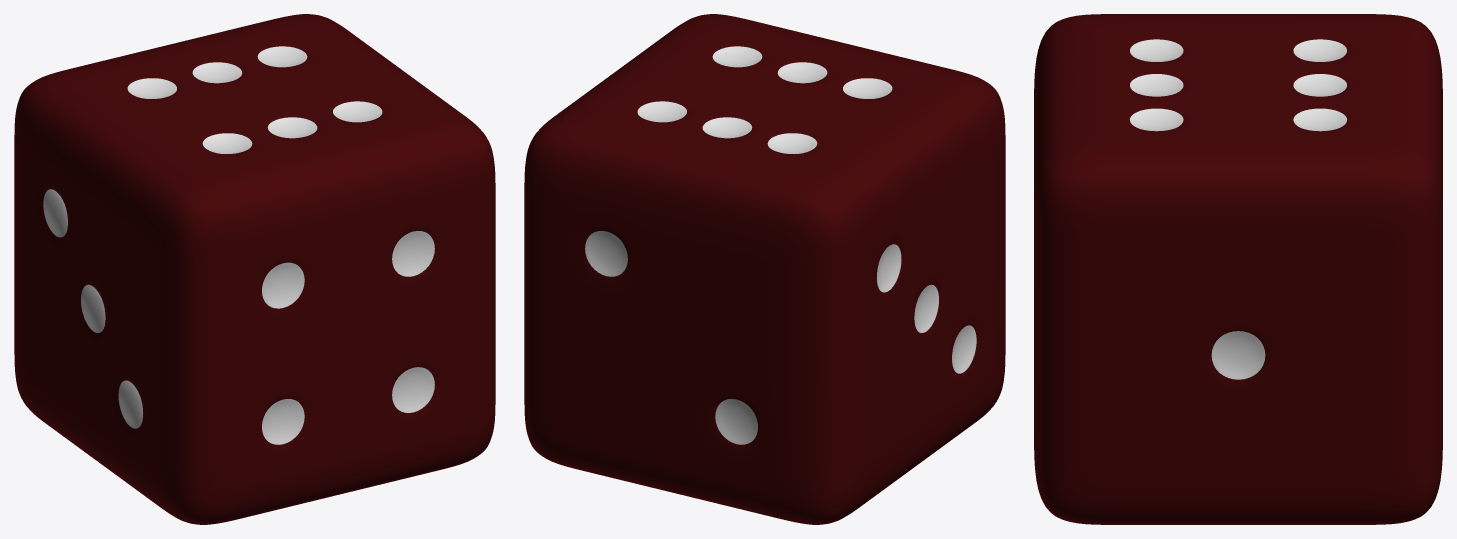
File: dice.glb
The picture shows the model from 3 angles, left to right: view 1: azimuth 30°, elevation 25°; view 2: azimuth 150°, elevation 25°; view 3: azimuth 270°, elevation 25°; orthographic projection. The views are drawn at different scales.
Visible parts, largest first — view 1: Cube_0; view 2: Cube_0; view 3: Cube_0.
Part boxes in pixels (box(x1,y1,x2,y2)): Cube_0: box(14, 14, 495, 524); Cube_0: box(524, 14, 1005, 524); Cube_0: box(1034, 14, 1442, 524).
Bounding box in the file's own units: 2 × 2 × 2.
